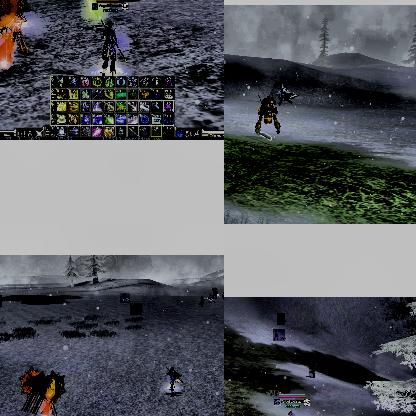caliana: (130, 303, 142, 315), (273, 329, 285, 341), (120, 293, 130, 303), (277, 313, 285, 325), (309, 363, 315, 377), (199, 298, 203, 306), (208, 294, 212, 302)
